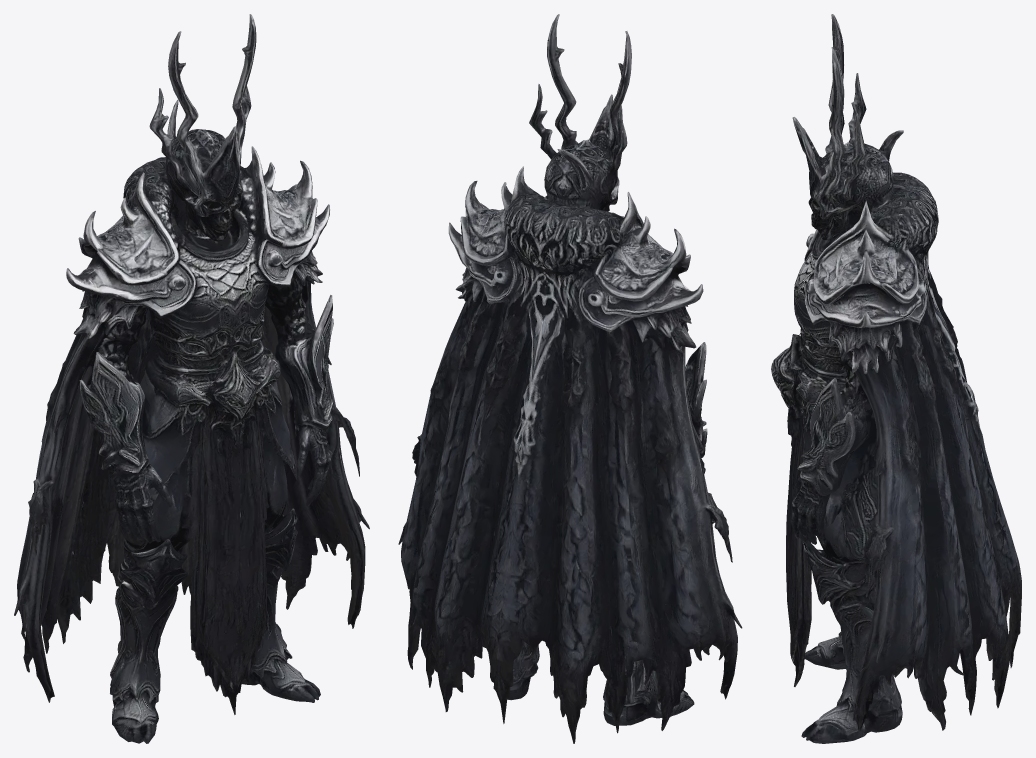
The model's file is boss-barrowking.glb.
The picture shows the model from 3 angles, left to right: view 1: azimuth 30°, elevation 25°; view 2: azimuth 150°, elevation 25°; view 3: azimuth 270°, elevation 25°; orthographic projection. The views are drawn at different scales.
Bounding box in the file's own units: 1.08 × 2 × 0.6808.
1 material, 1 textured.
